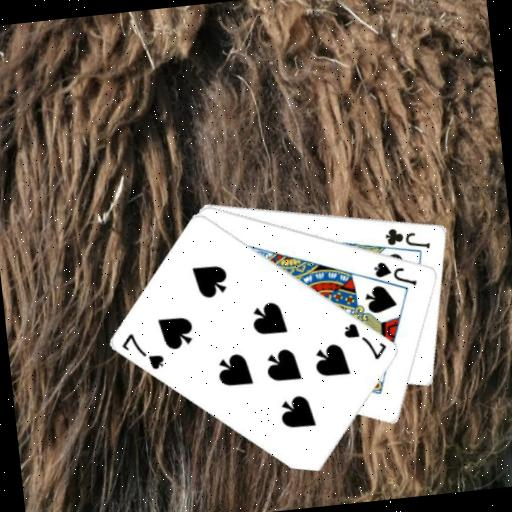7S: (340, 316, 391, 365), (118, 327, 168, 376)
JC: (382, 221, 433, 254)
JS: (370, 255, 419, 291)
